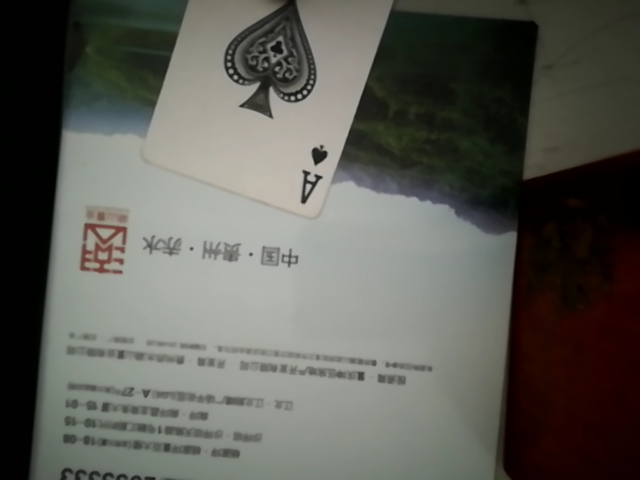ht a: (129, 2, 417, 218)
